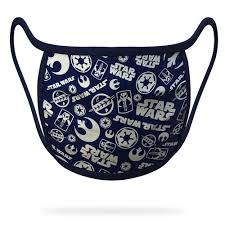cloth_mask: (8, 16, 220, 186)
